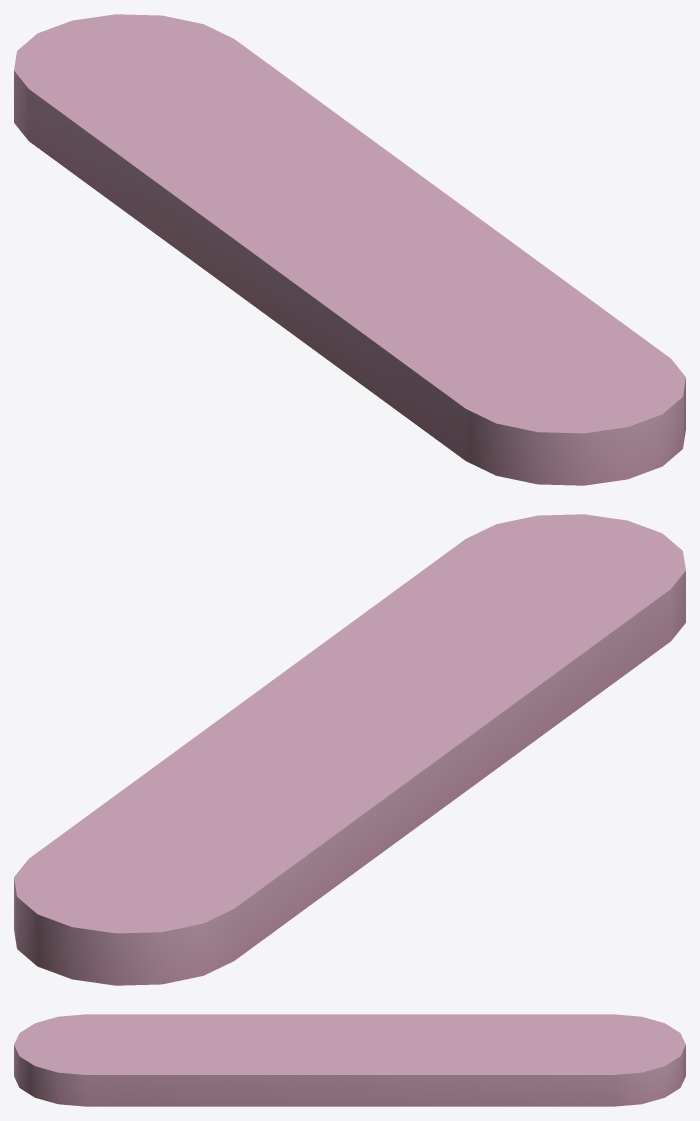
File: makeup-nail-file.glb
The picture shows the model from 3 angles, top to bottom: view 1: azimuth 30°, elevation 25°; view 2: azimuth 150°, elevation 25°; view 3: azimuth 270°, elevation 25°; orthographic projection. The views are drawn at different scales.
Visible parts, largest first — view 1: makeup-nail-file; view 2: makeup-nail-file; view 3: makeup-nail-file.
Part boxes in pixels (x1,y1,x2,y2): makeup-nail-file: (14,14,685,485); makeup-nail-file: (14,514,685,985); makeup-nail-file: (14,1014,685,1106).
Size of the model in its own units: 0.06 by 0.0146 by 0.2812.
